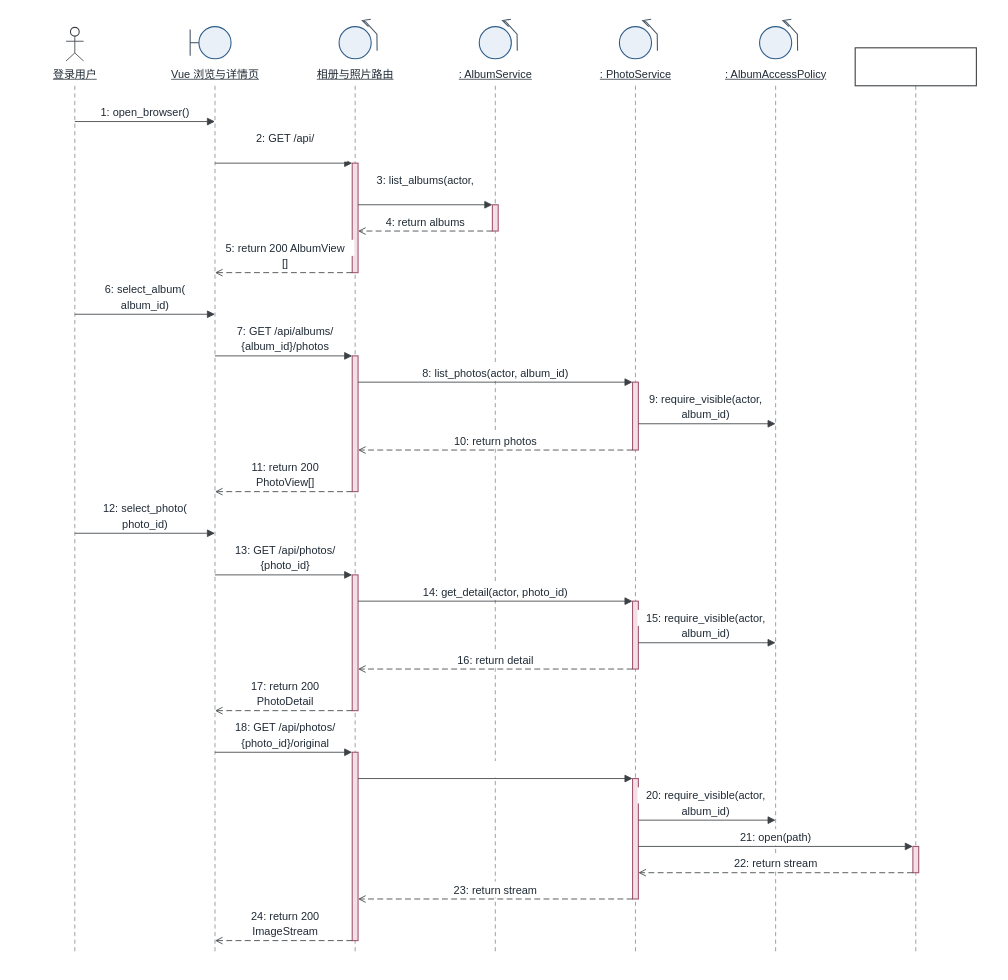
Some shapes in this 1008 by 980 pixel diagram are drawn without their labels. Each missing label, with the box of its shape:
19: open_image(actor, photo_id, variant): (384, 761, 606, 777)
: LocalPhotoStorage: (854, 47, 977, 86)
albums?scope=visible: (222, 145, 347, 161)
scope): (403, 187, 447, 203)
